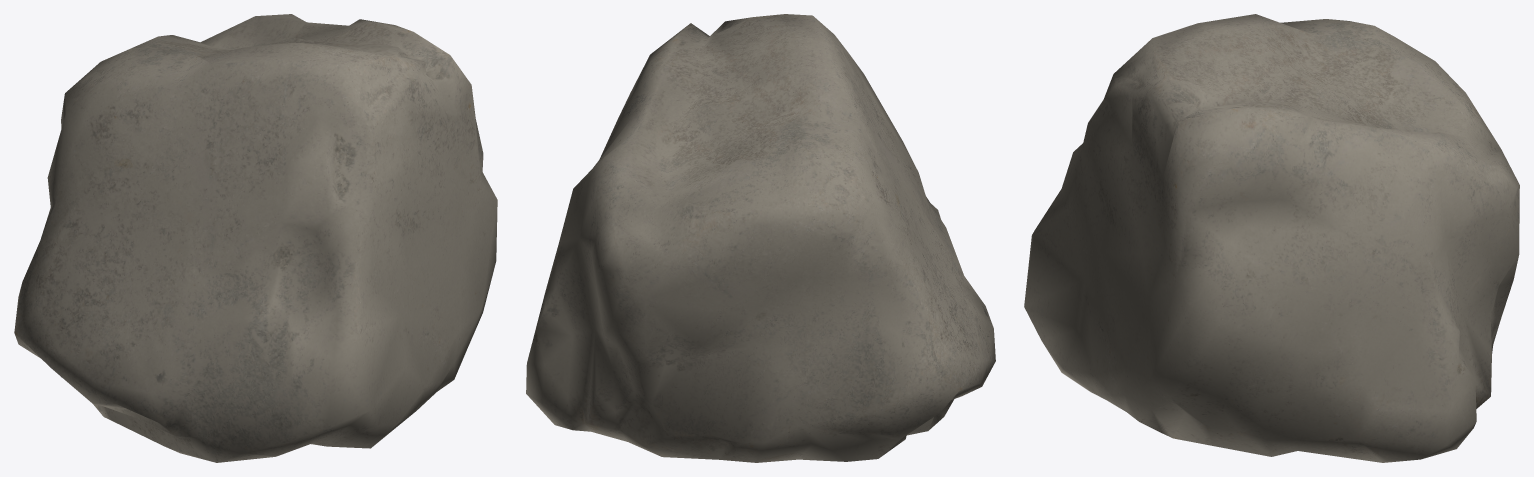
File: 5. moon_rock.fbx
3 renders of one model, left to right at view 1: azimuth 30°, elevation 25°; view 2: azimuth 150°, elevation 25°; view 3: azimuth 270°, elevation 25°, orthographic. The views are drawn at different scales.
Parts seen in each view (by area): view 1: 5. moon_rock; view 2: 5. moon_rock; view 3: 5. moon_rock.
Boxes of the visible parts, x1=… form: 5. moon_rock: x1=14, y1=14, x2=497, y2=462; 5. moon_rock: x1=526, y1=14, x2=995, y2=462; 5. moon_rock: x1=1024, y1=14, x2=1519, y2=462.
Bounding box in the file's own units: 19.63 × 16.09 × 19.98.
Materials: 1 (1 with a texture image).
